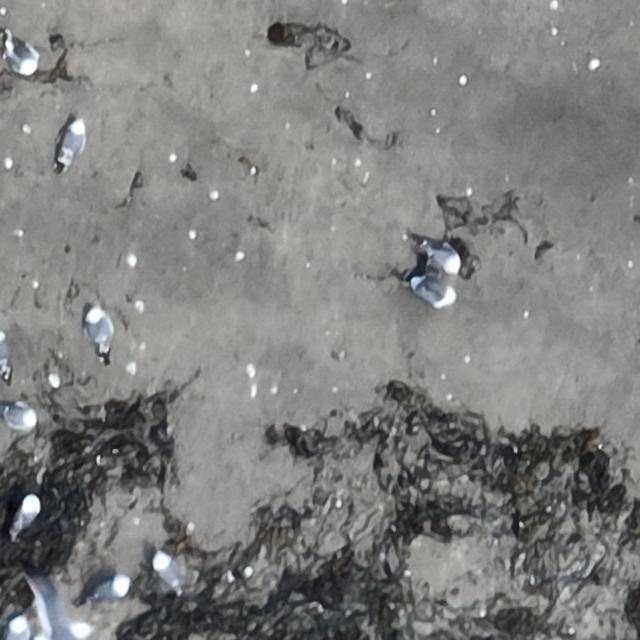umineko: (55, 119, 87, 169), (419, 239, 462, 275), (409, 276, 456, 306), (87, 578, 127, 602), (89, 308, 111, 351), (13, 497, 38, 532), (155, 557, 180, 591), (12, 43, 37, 74), (5, 405, 36, 429), (5, 617, 26, 640)
